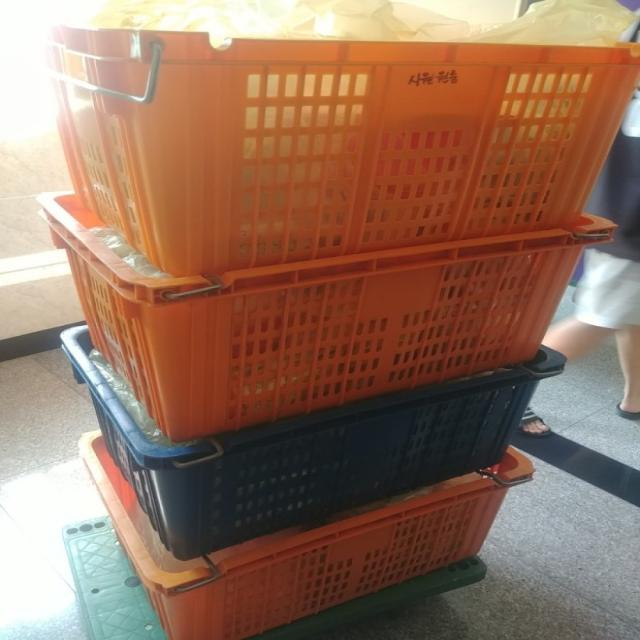basket: (29, 193, 616, 458), (51, 327, 567, 576), (60, 433, 510, 640)
